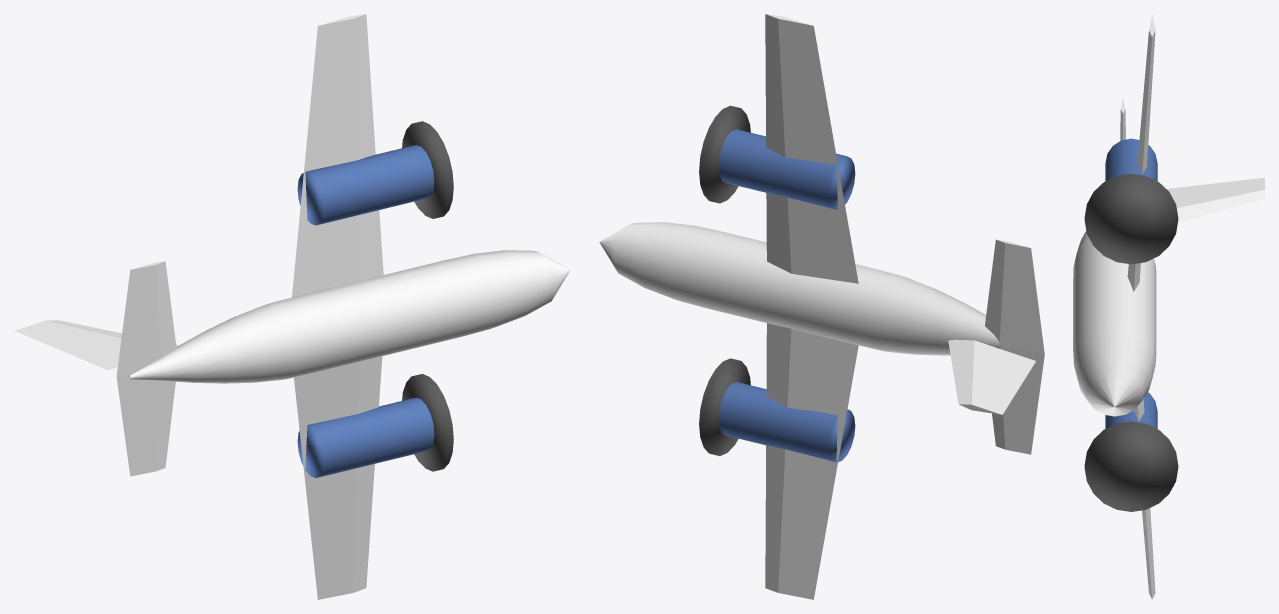
File: C3_TWIN_0003.glb
The picture shows the model from 3 angles, left to right: view 1: azimuth 30°, elevation 25°; view 2: azimuth 150°, elevation 25°; view 3: azimuth 270°, elevation 25°; orthographic projection. The views are drawn at different scales.
Size of the model in its own units: 10.95 by 12.51 by 3.87.
